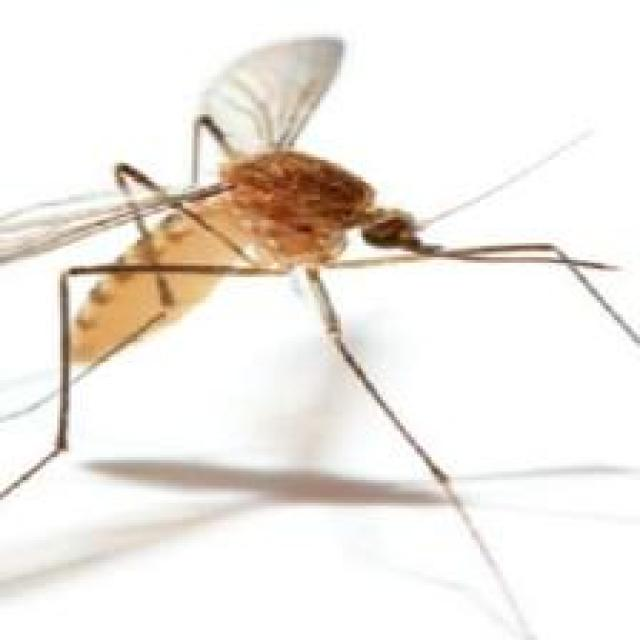Culex: (0, 33, 640, 638)
